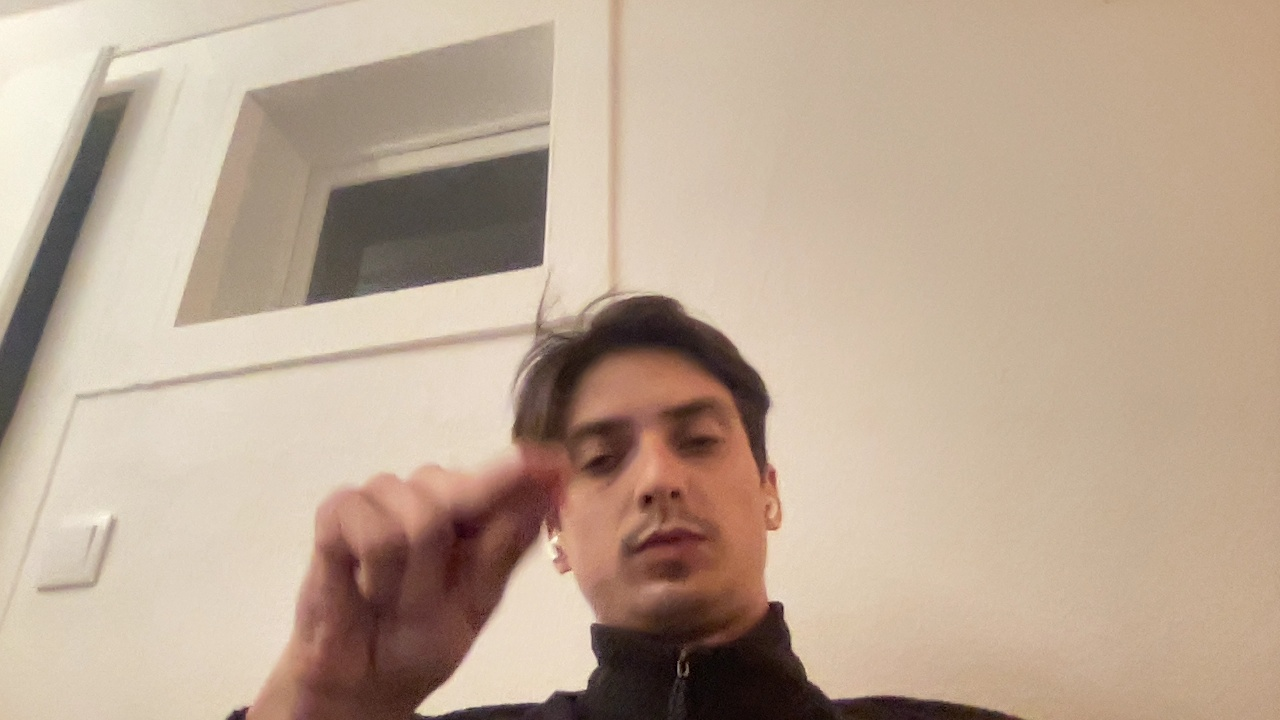no: (252, 445, 571, 699)
